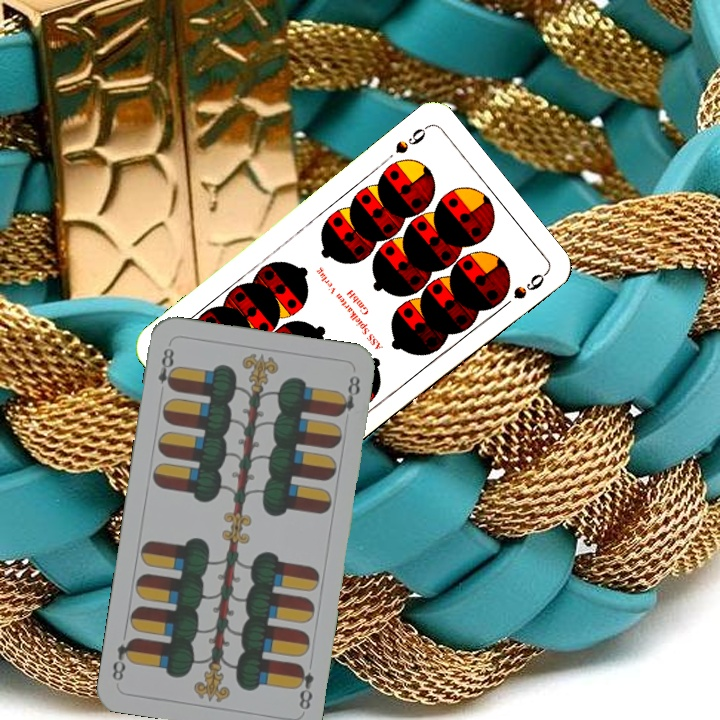E8: (291, 659, 316, 712), (154, 343, 179, 393)
S9: (391, 121, 431, 156)
